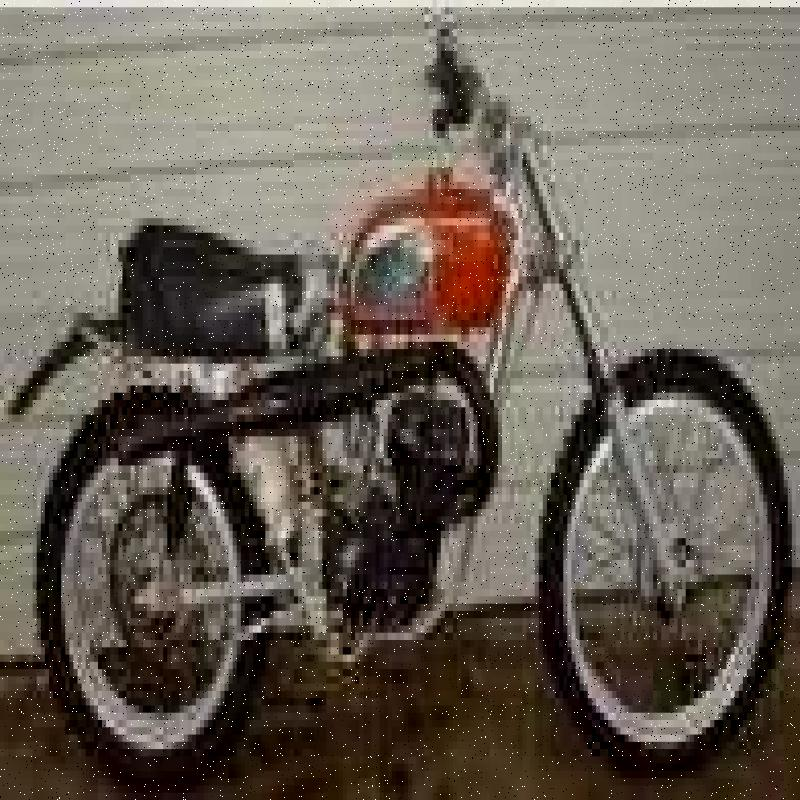bike: (31, 8, 800, 764)
